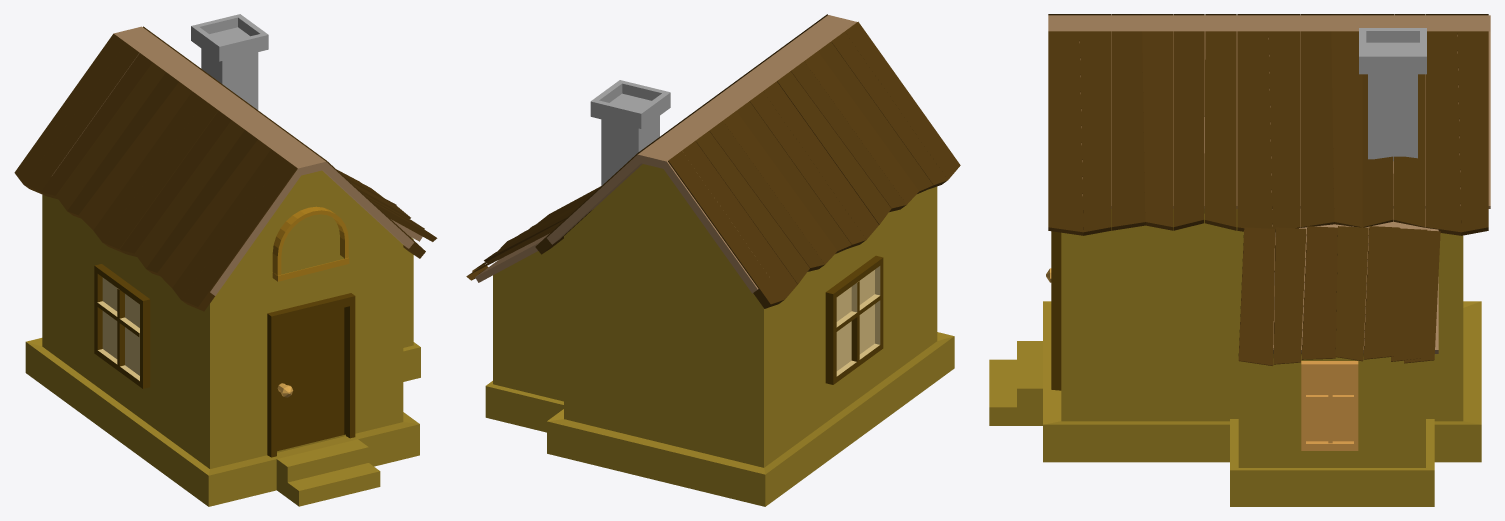
The model's file is village House 2.glb.
3 renders of one model, left to right at view 1: azimuth 30°, elevation 25°; view 2: azimuth 150°, elevation 25°; view 3: azimuth 270°, elevation 25°, orthographic. The views are drawn at different scales.
Parts seen in each view (by area): view 1: corong; view 2: corong; view 3: corong.
Boxes of the visible parts, x1,y1,x2,y2 form: corong: (14, 14, 437, 506); corong: (466, 14, 960, 506); corong: (989, 14, 1490, 506).
Size of the model in its own units: 7.7 by 7.48 by 8.62.
